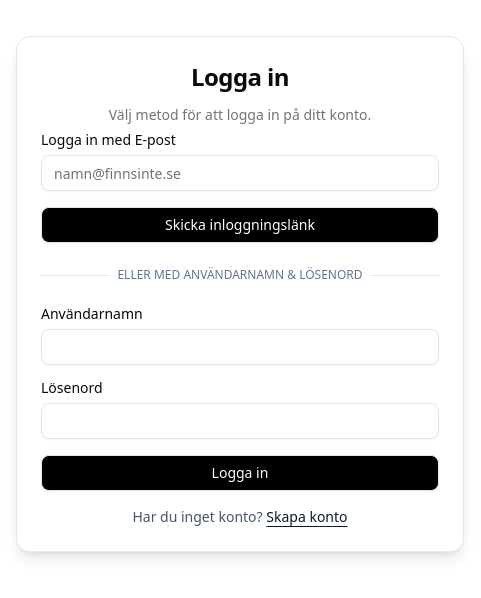
Test: Page: Login › borde försöaka med med magic link igen (reset form)
Type "test@example.com" into the field labelled "Logga in med E-post" at x=240, y=173, box [41,155,439,191]
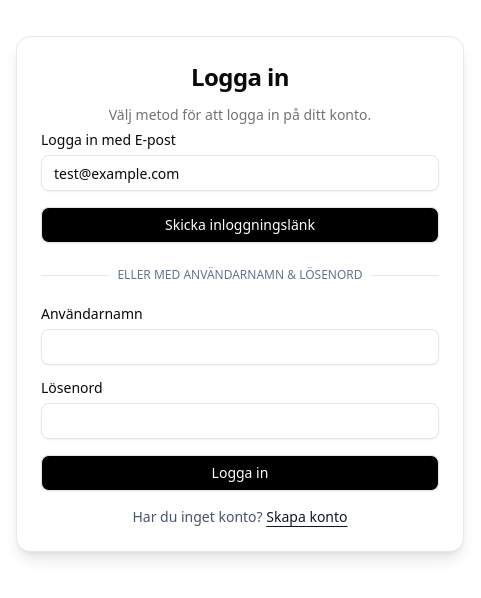
Click the button "Skicka inloggningslänk" at x=240, y=225, box [41,207,439,243]
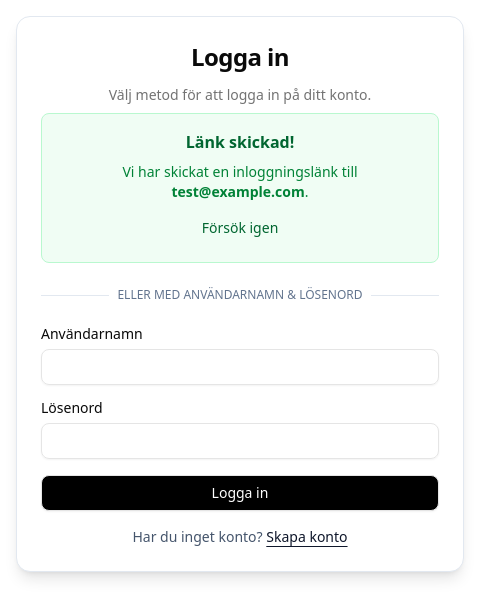
Expected: the heading "Länk skickad!" is shown, [186,131,294,153]
Note: Klicka på "Försök igen".
Click the button "Försök igen" at x=240, y=228, box [186,210,294,246]
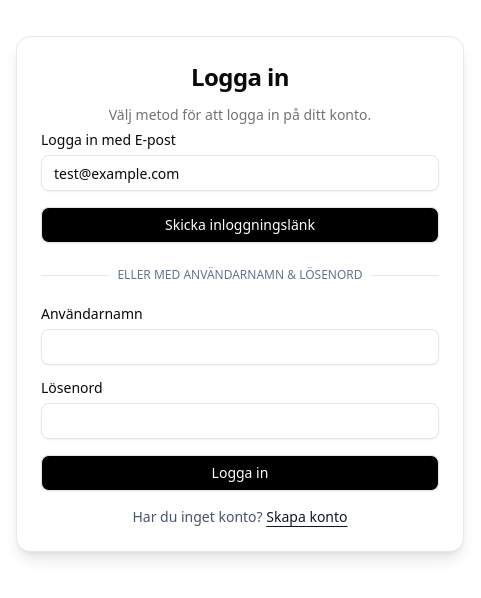
Expected: the field labelled "Logga in med E-post" is shown, [41,155,439,191]
Expected: the heading "Länk skickad!" is gone
